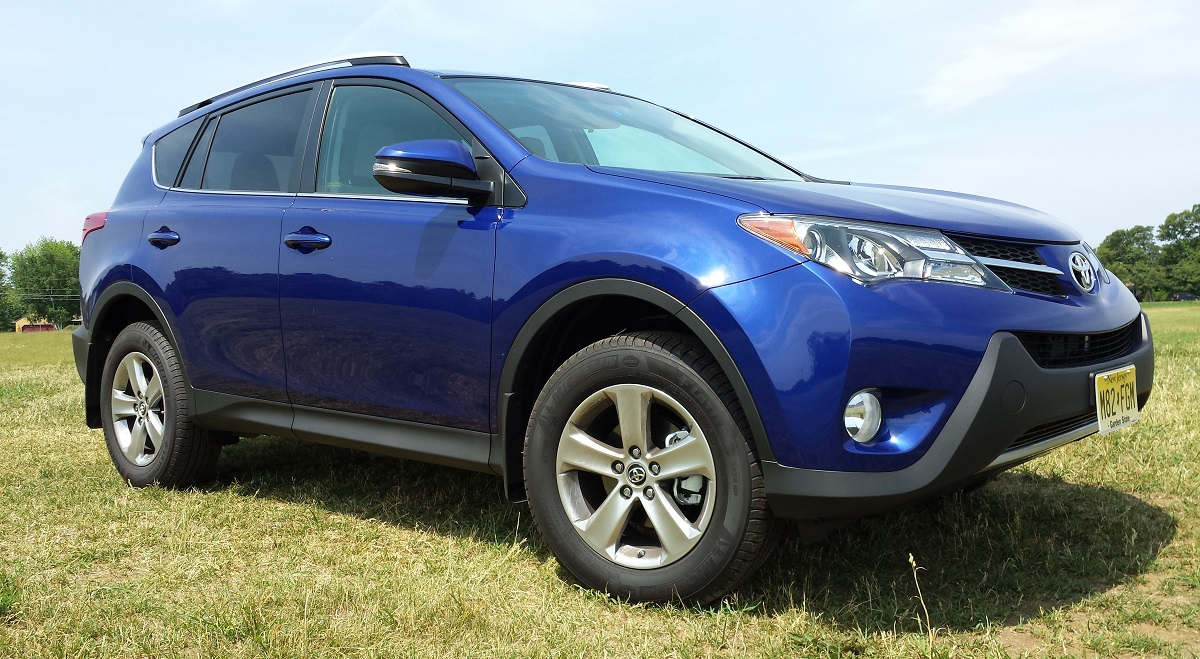Toyota RAV-4: (68, 63, 1154, 610)
